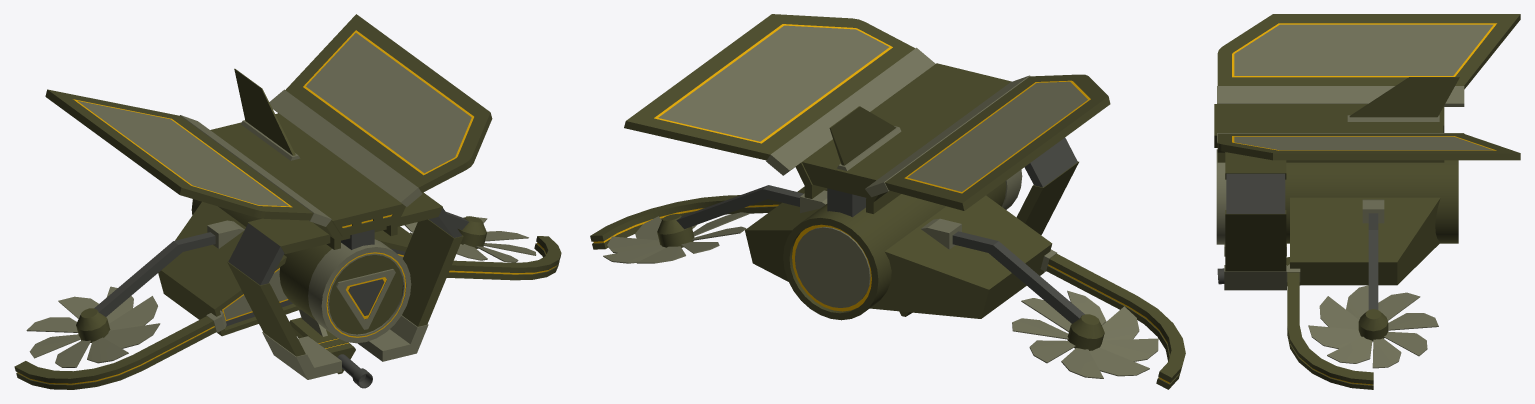
File: BossBot.fbx
The picture shows the model from 3 angles, left to right: view 1: azimuth 30°, elevation 25°; view 2: azimuth 150°, elevation 25°; view 3: azimuth 270°, elevation 25°; orthographic projection. The views are drawn at different scales.
Visible parts, largest first — view 1: Body, RightBlade, LeftBlade; view 2: Body, RightBlade, LeftBlade; view 3: Body, LeftBlade.
Boxes of the visible parts, x1,y1,x2,y2 form: Body: (14, 14, 561, 389); RightBlade: (26, 286, 160, 367); LeftBlade: (404, 217, 536, 262); Body: (590, 14, 1185, 389); RightBlade: (1012, 290, 1158, 378); LeftBlade: (603, 212, 749, 263); Body: (1214, 14, 1520, 389); LeftBlade: (1308, 285, 1438, 368).
Bounding box in the file's own units: 192 × 78.16 × 103.
